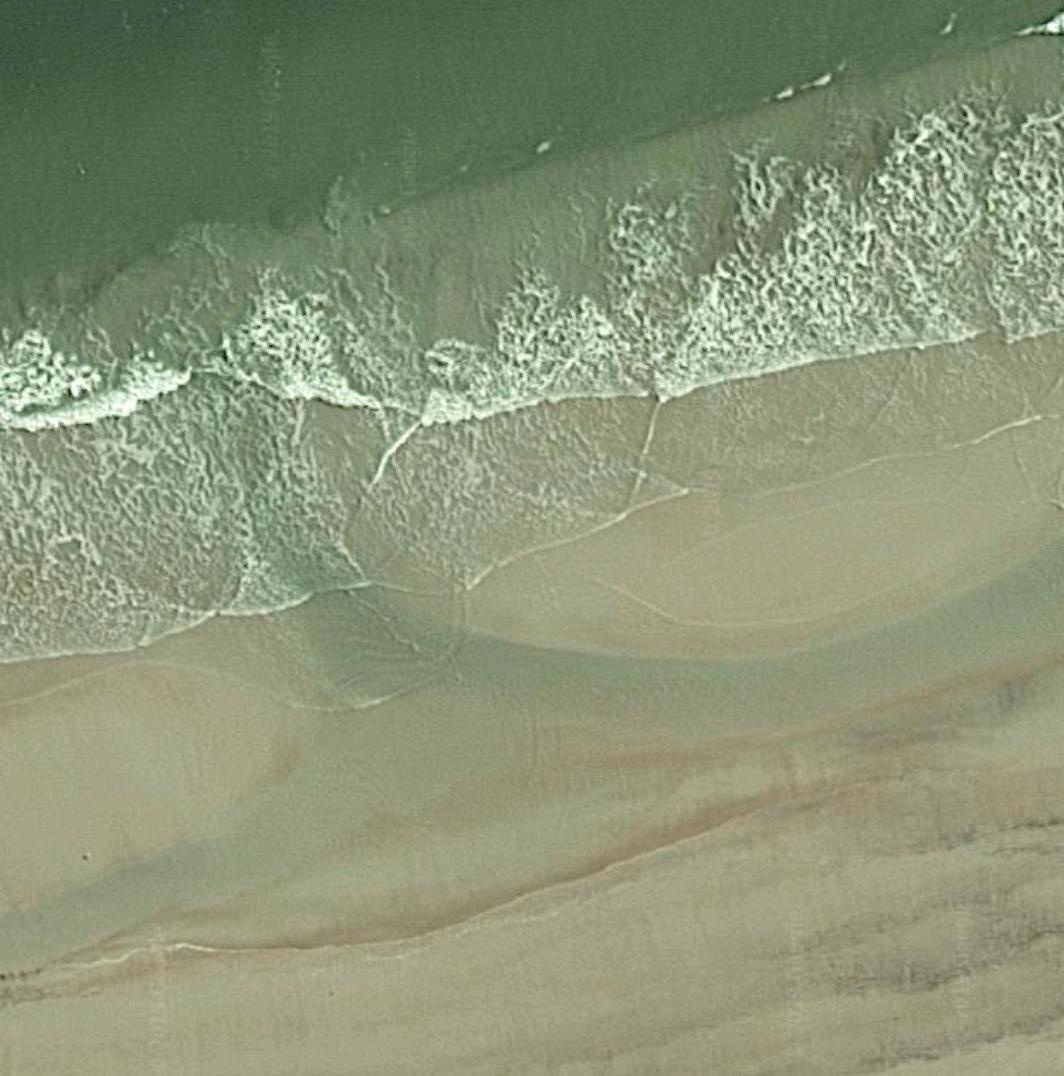rip_current: (140, 271, 390, 632)
